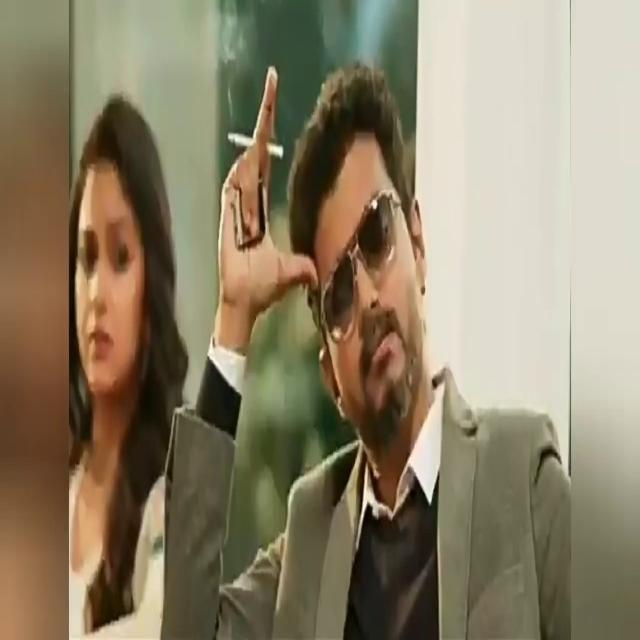smoking: (214, 100, 346, 280)
